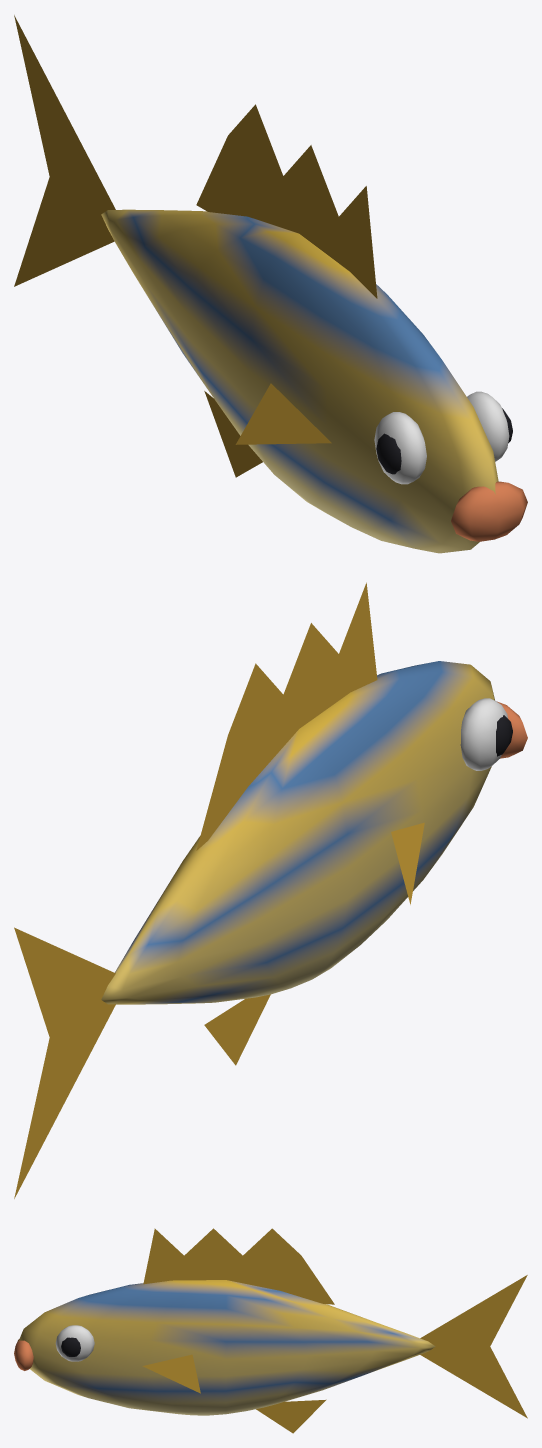
The model's file is grunzer.glb.
The picture shows the model from 3 angles, top to bottom: view 1: azimuth 30°, elevation 25°; view 2: azimuth 150°, elevation 25°; view 3: azimuth 270°, elevation 25°; orthographic projection. The views are drawn at different scales.
Parts seen in each view (by area): view 1: grunzer; view 2: grunzer; view 3: grunzer.
Boxes of the visible parts, x1=… form: grunzer: x1=14, y1=15, x2=527, y2=553; grunzer: x1=14, y1=582, x2=527, y2=1198; grunzer: x1=14, y1=1228, x2=527, y2=1433.
Size of the model in its own units: 0.255 by 0.5404 by 1.23.
